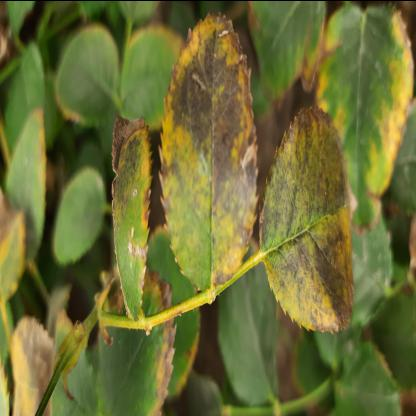black-spot: (158, 11, 258, 296), (312, 8, 411, 233), (256, 104, 354, 330), (104, 102, 158, 314)
